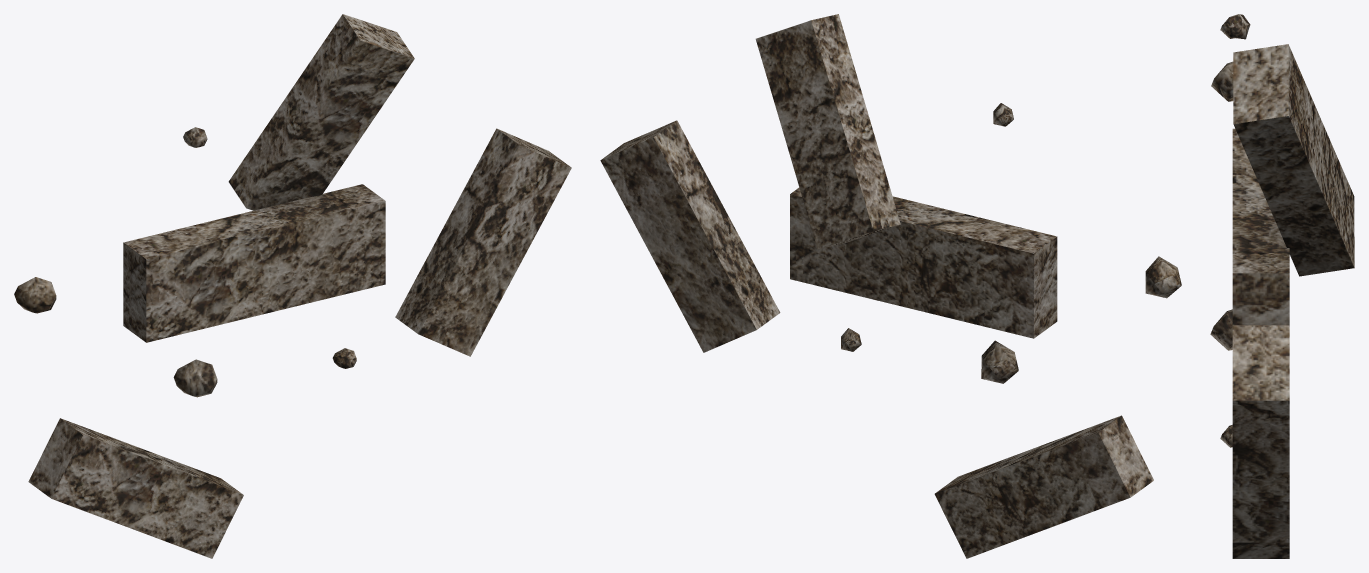
Rendered from Rubble_a.fbx.
3 renders of one model, left to right at view 1: azimuth 30°, elevation 25°; view 2: azimuth 150°, elevation 25°; view 3: azimuth 270°, elevation 25°, orthographic. The views are drawn at different scales.
Parts seen in each view (by area): view 1: Rubble_a; view 2: Rubble_a; view 3: Rubble_a.
Part boxes in pixels (x1,y1,x2,y2): Rubble_a: (14, 14, 571, 558); Rubble_a: (600, 14, 1181, 558); Rubble_a: (1210, 14, 1354, 558).
Bounding box in the file's own units: 72.05 × 61.35 × 13.2.
